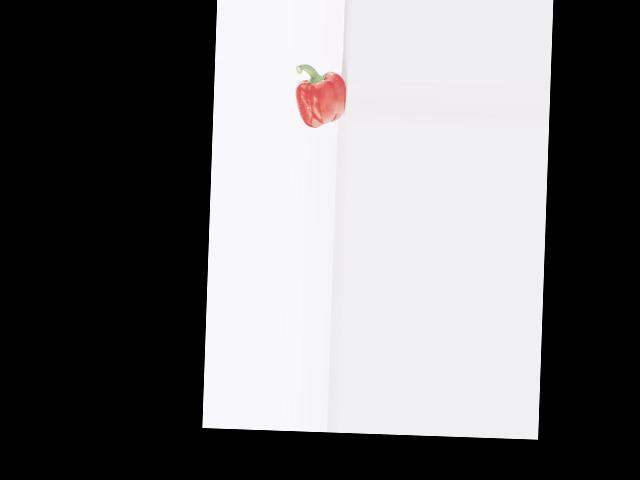bell_pepper: (291, 57, 349, 132)
